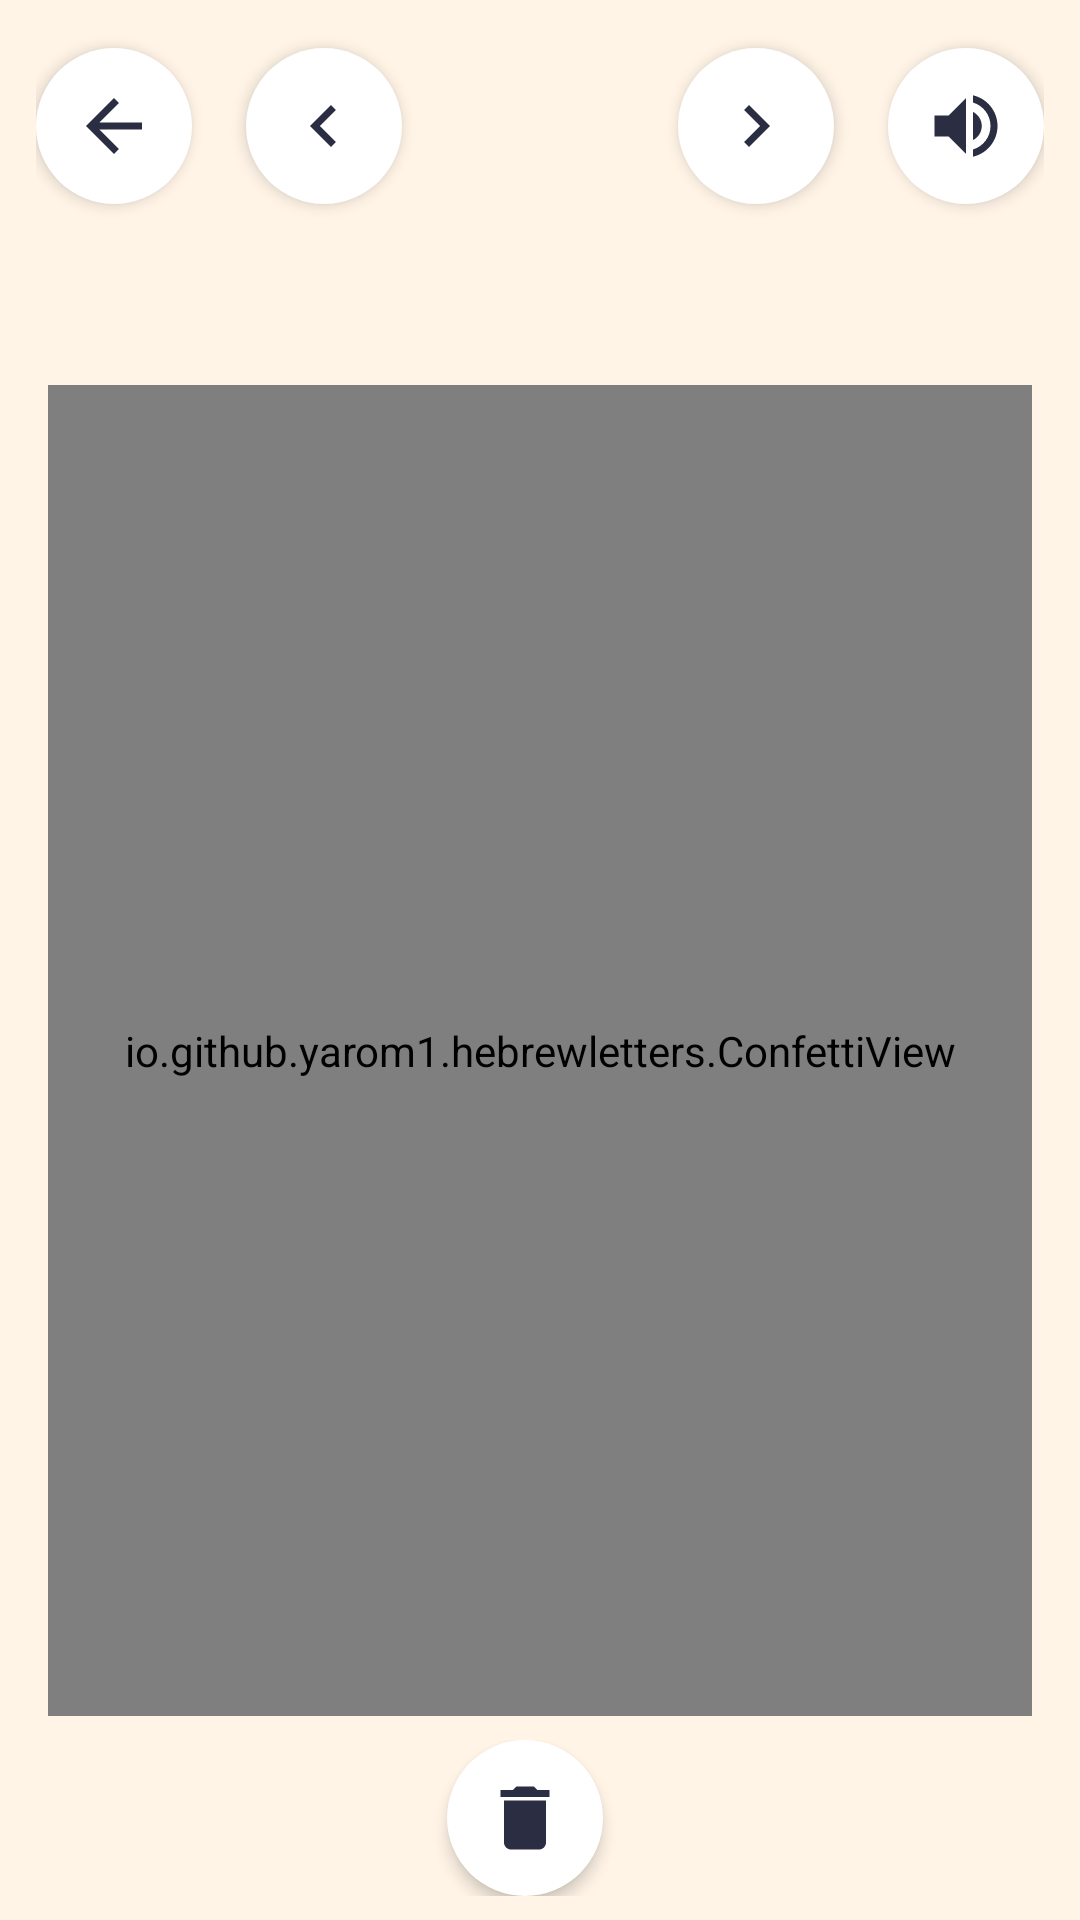

Screen size 1080×1920. Icon name, then its center in pixels as point (x, y):
האות הבאה: point (756, 126)
האות הקודמת: point (324, 126)
השמעה: point (966, 126)
חזרה: point (114, 126)
מחיקה: point (525, 1818)
